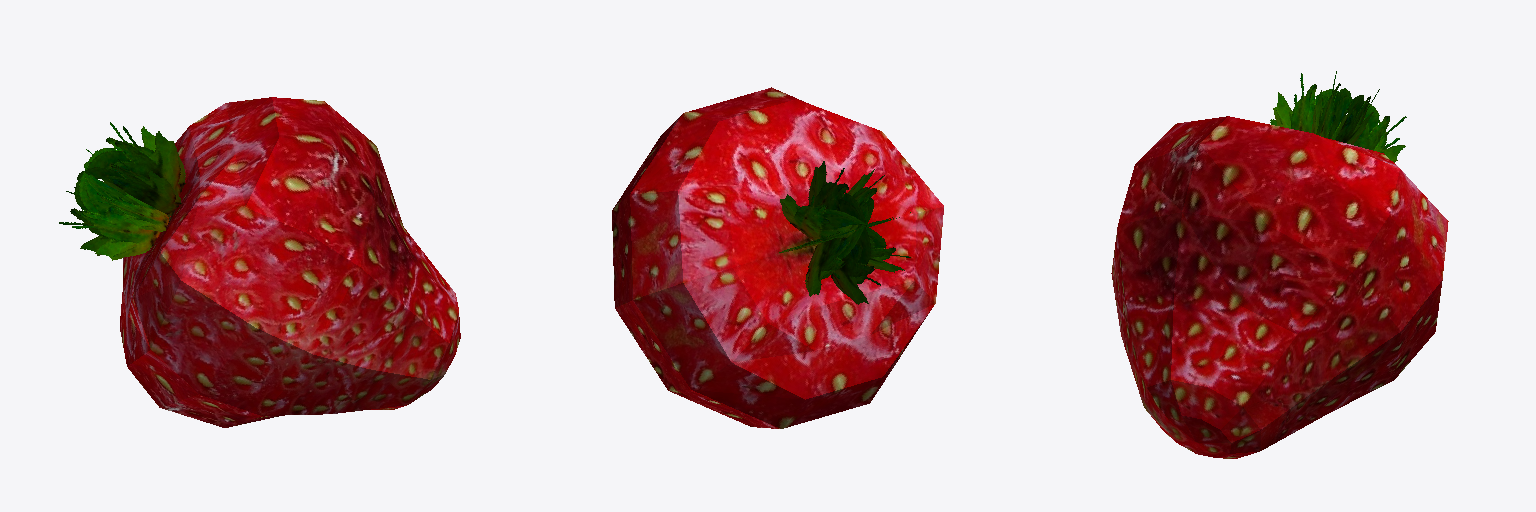
3 views of the same model, side by side, from view 1: azimuth 30°, elevation 25°; view 2: azimuth 150°, elevation 25°; view 3: azimuth 270°, elevation 25° (orthographic).
Parts seen in each view (by area): view 1: skin; view 2: skin; view 3: skin.
Boxes of the visible parts, x1=… form: skin: x1=59, y1=97, x2=460, y2=427; skin: x1=612, y1=87, x2=943, y2=428; skin: x1=1111, y1=71, x2=1448, y2=458.
Size of the model in its own units: 4.11 by 3.5 by 3.61.
Materials: 1 (1 with a texture image).